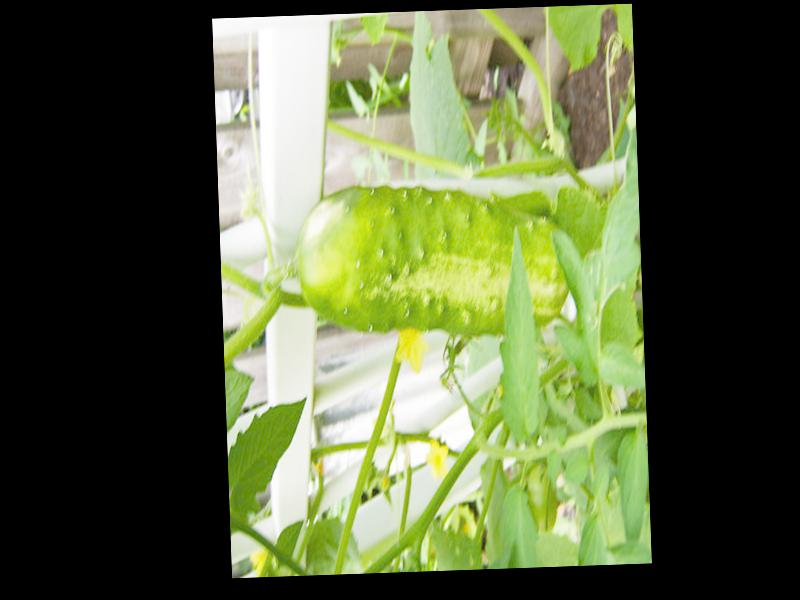Cucumber: (293, 180, 567, 336)
